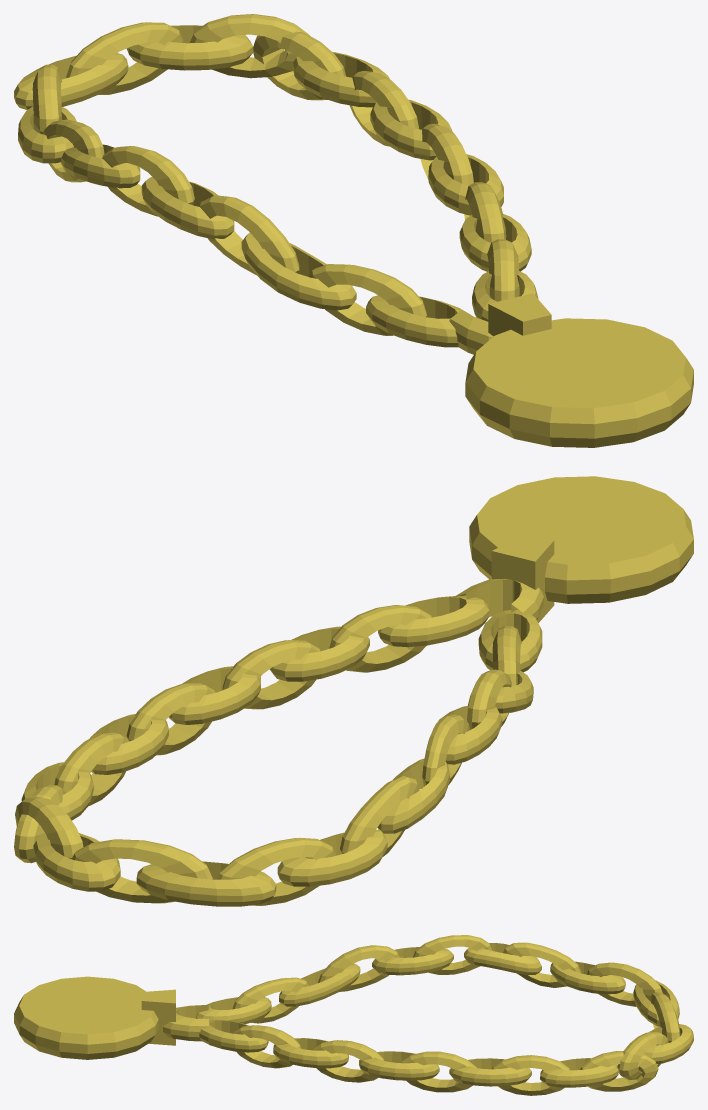
File: Corrente.fbx
3 renders of one model, top to bottom at view 1: azimuth 30°, elevation 25°; view 2: azimuth 150°, elevation 25°; view 3: azimuth 270°, elevation 25°, orthographic. The views are drawn at different scales.
Visible parts, largest first — view 1: Circle.001; view 2: Circle.001; view 3: Circle.001.
Boxes of the visible parts, x1,y1,x2,y2 form: Circle.001: [14, 14, 693, 447]; Circle.001: [14, 476, 693, 906]; Circle.001: [14, 935, 693, 1095].
Size of the model in its own units: 609 by 171 by 1564.
